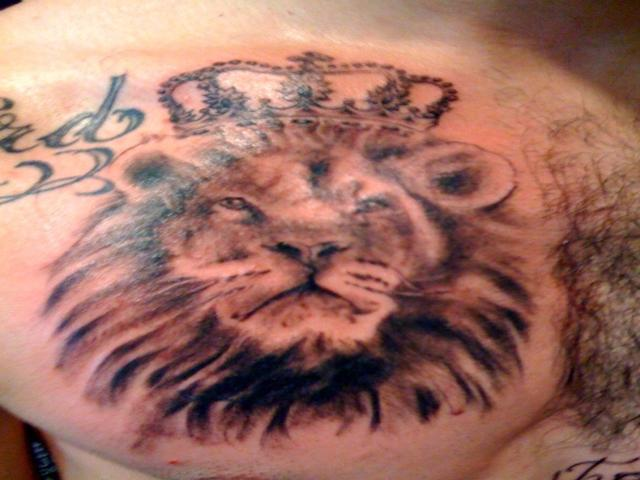lion: (67, 50, 602, 480)
